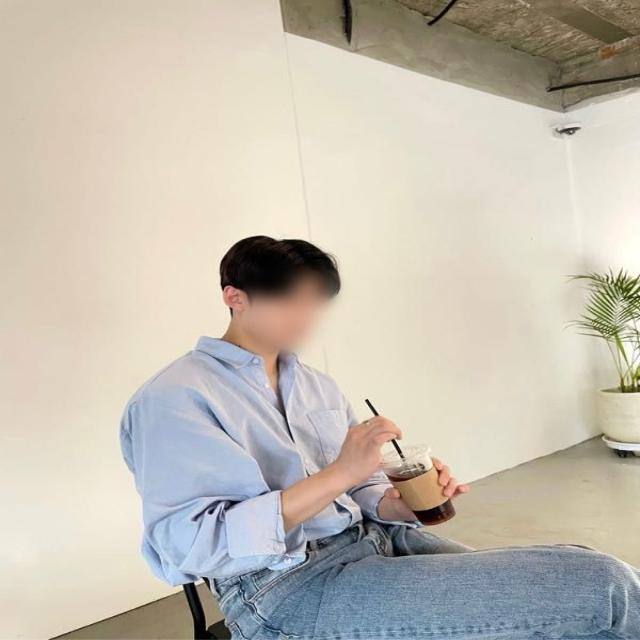denimpants: (216, 527, 640, 639)
shirt: (124, 333, 405, 582)
